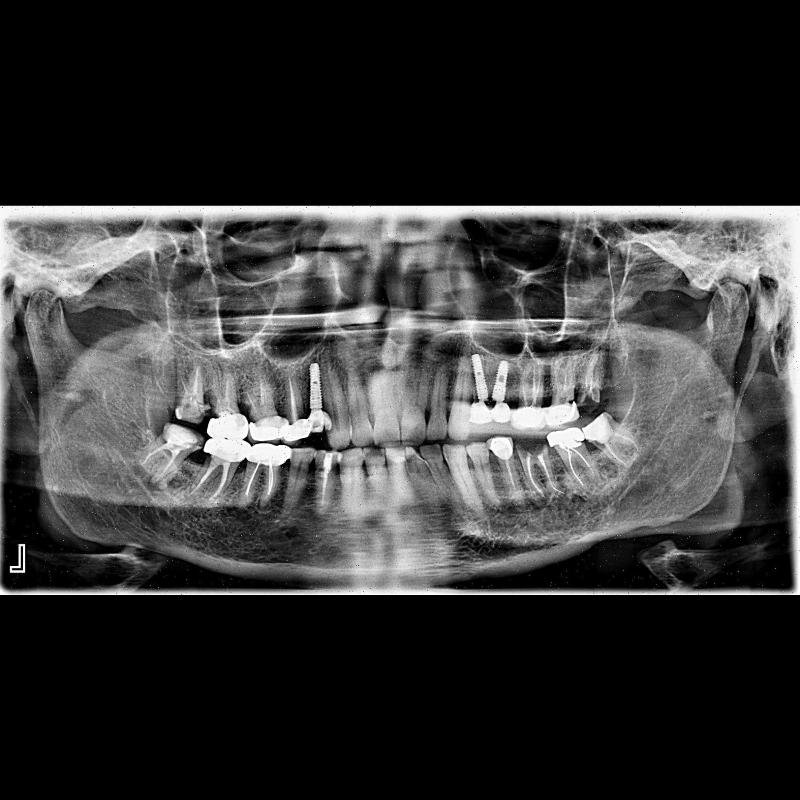osstem: (304, 360, 330, 414), (489, 358, 515, 404), (468, 351, 489, 403)
